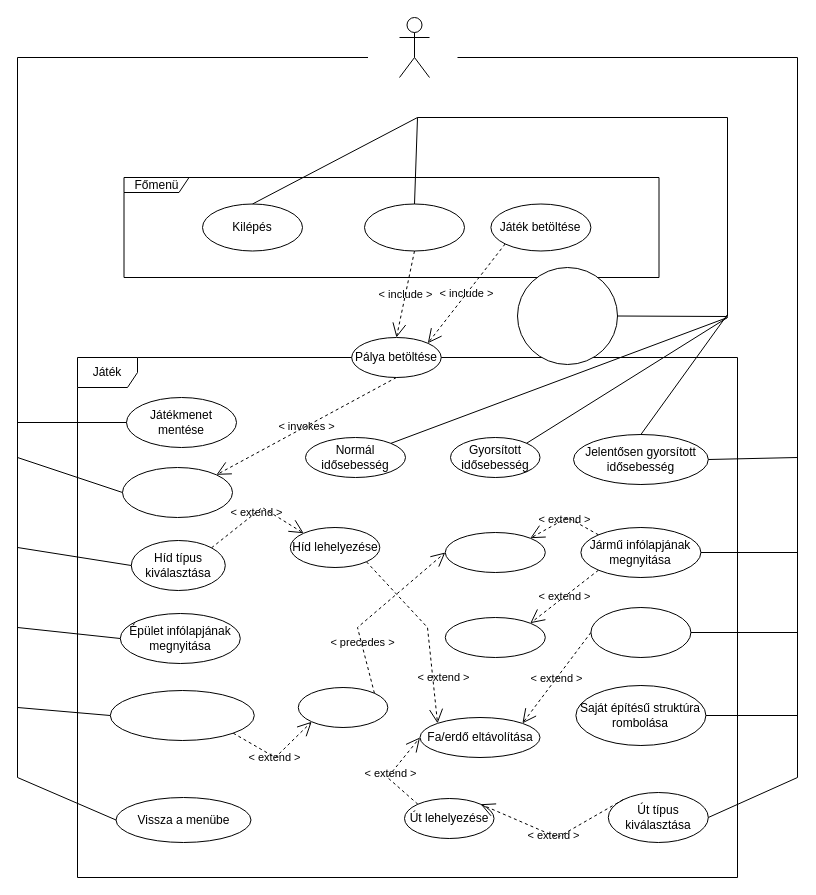
Image size: 816x895. Some labels were removed from this diagram. Here are the shapes that lost their labels. From the top down, the centre of each, then its label:
(414,47): Játékos
(414,227): Új játék indítása
(567,315): Sugó megnyitása
(177,492): Idő telésének szüneteltetése
(494,552): Jármű eladása
(494,637): Útvonal kiadása
(640,632): Megálló lehelyezése
(181,715): Ipari megálló infólapjának megnyitása
(342,707): Jármű vásárlása
